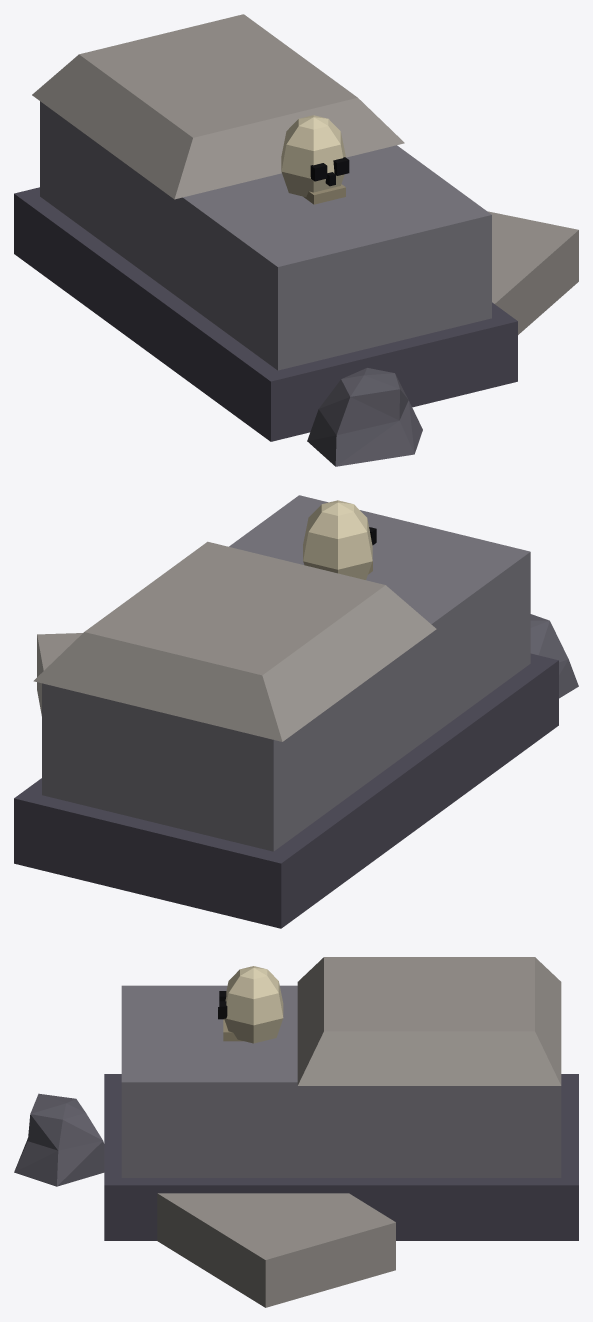
File: sarcophagus_broken.fbx
The picture shows the model from 3 angles, top to bottom: view 1: azimuth 30°, elevation 25°; view 2: azimuth 150°, elevation 25°; view 3: azimuth 270°, elevation 25°; orthographic projection. The views are drawn at different scales.
Visible parts, largest first — view 1: sarcophagus_broken; view 2: sarcophagus_broken; view 3: sarcophagus_broken.
Part boxes in pixels (bbox=[...]): sarcophagus_broken: bbox=[14, 14, 578, 466]; sarcophagus_broken: bbox=[14, 495, 578, 928]; sarcophagus_broken: bbox=[14, 957, 578, 1307].
Bounding box in the file's own units: 2.4 × 1.37 × 3.21.
